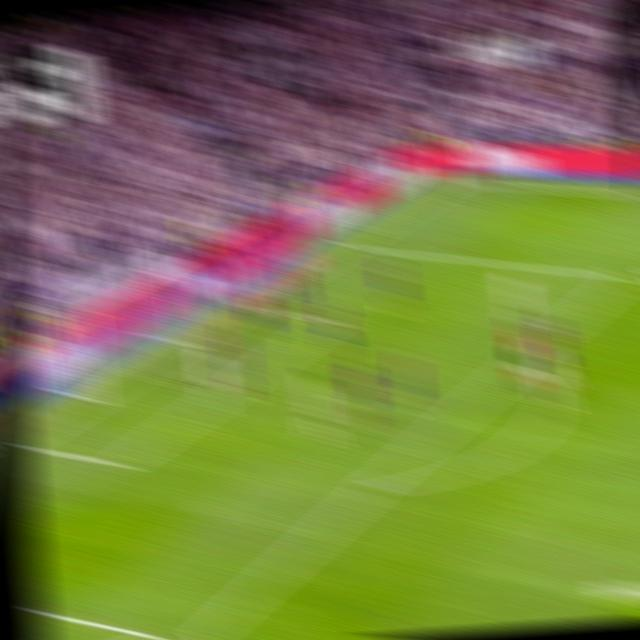bigarea_bottom_inner: (179, 625, 210, 640)
bigarea_top_inner: (608, 261, 638, 291)
bigarea_top_outter: (333, 234, 359, 253)
bottom_arc_area_intersection: (359, 471, 389, 501)
smallarea_bottom_inner: (106, 448, 134, 477)
smallarea_top_inner: (319, 312, 341, 328)
